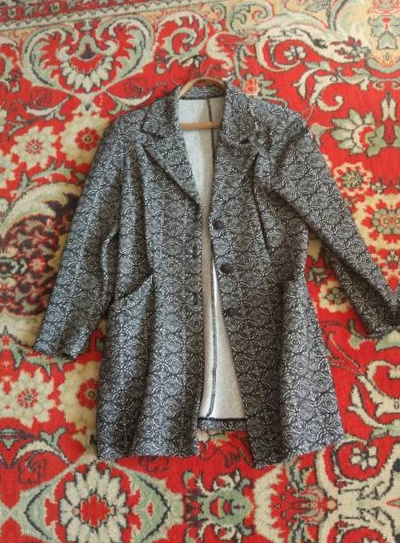Blazer: (36, 66, 396, 490), (49, 526, 400, 543), (391, 57, 400, 481)
